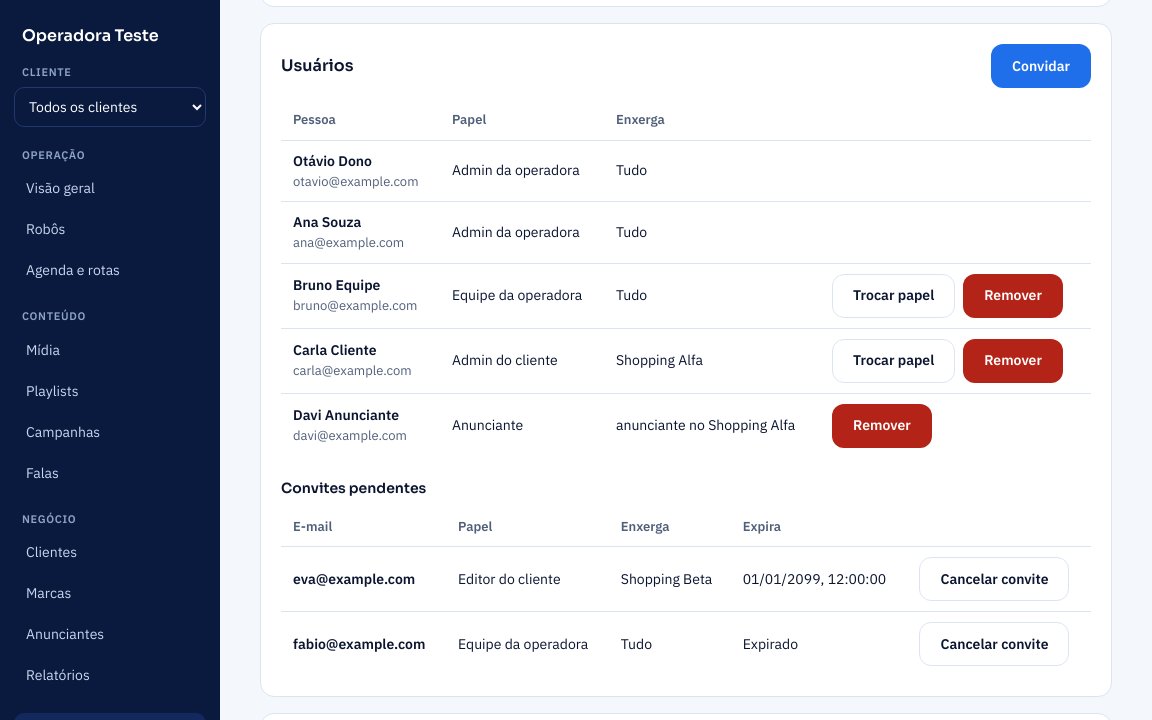
Scenario: changing a role › offers only the roles of the member’s scope and sends the change
(page scrolled)
expect the button with aria-label "Remover Bruno Equipe" is shown: met, box x1=963 y1=274 x2=1063 y2=318
Step 1. Click the button with aria-label "Trocar papel de Carla Cliente" → (894, 360), box x1=832 y1=338 x2=955 y2=382
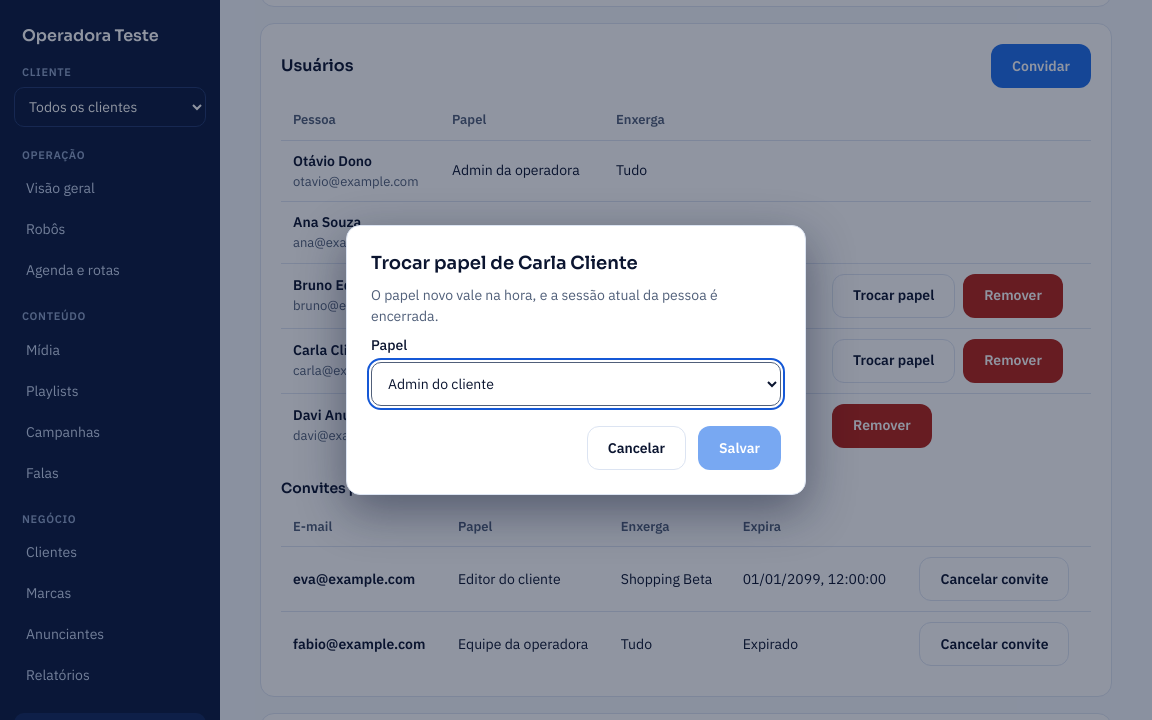
Step 2. Select "Editor do cliente" in the dropdown labelled "Papel" → (576, 384), box x1=371 y1=362 x2=781 y2=406
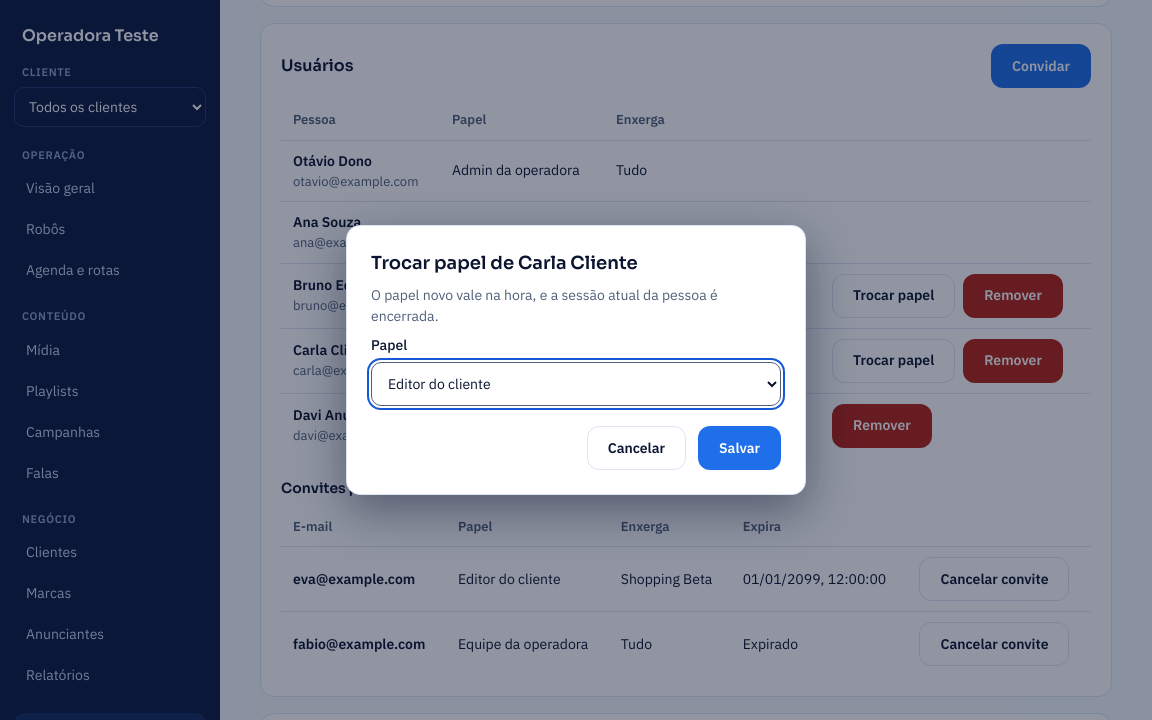
Step 3. Click the button "Salvar" → (740, 448), box x1=698 y1=426 x2=781 y2=470
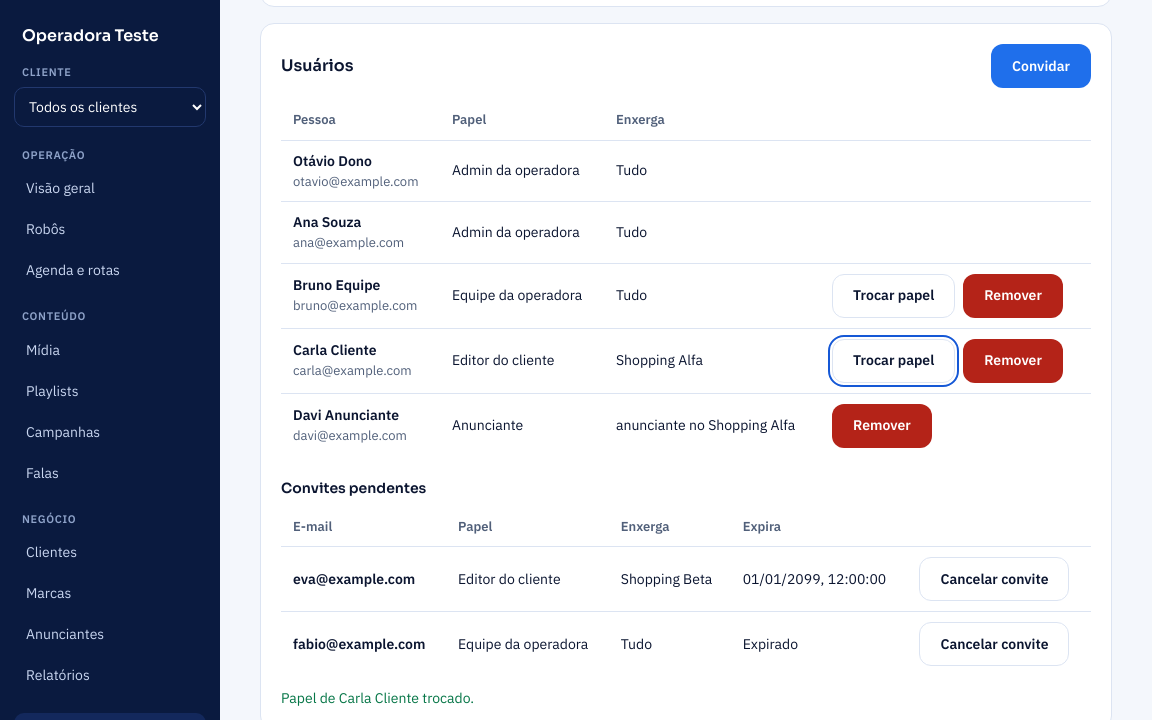
expect the text "Papel de Carla Cliente trocado." is shown: met, box x1=281 y1=689 x2=474 y2=707
expect the cell "Editor do cliente" next to "carla@example.com" is shown: met, box x1=452 y1=351 x2=554 y2=369
